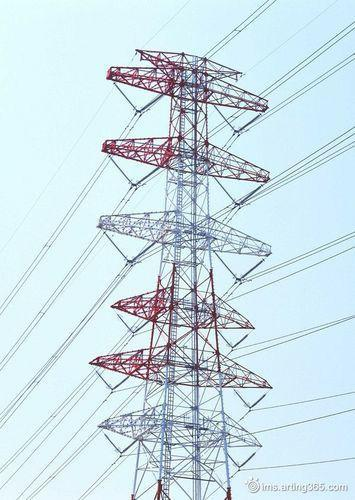power_tower: (101, 38, 259, 500)
